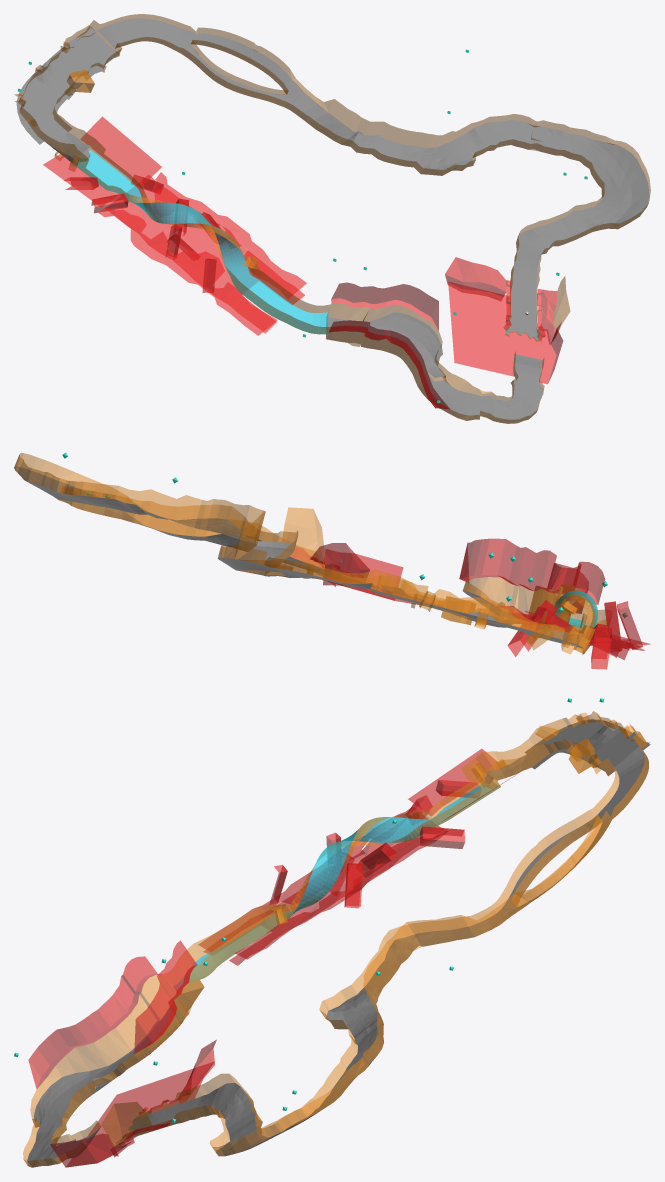
The model's file is Temple (Complete).obj.
3 views of the same model, one above another, from view 1: azimuth 30°, elevation 25°; view 2: azimuth 150°, elevation 25°; view 3: azimuth 270°, elevation 25° (orthographic). The views are drawn at different scales.
Parts seen in each view (by area): view 1: COL_stonetrack, COL_wall, COL_groundreset02, COL_fastdirttrack, COL_reset01, COL_maglev_01, COL_groundreset01, COL_reset_jumpB, COL_reset_jumpA; view 2: COL_wall, COL_stonetrack, COL_groundreset02, COL_reset_jumpB, COL_groundreset01, COL_reset_jumpA, COL_reset01, COL_fastdirttrack, COL_maglev_01, COL_slowdirttrack; view 3: COL_wall, COL_stonetrack, COL_groundreset02, COL_fastdirttrack, COL_maglev_01, COL_reset01, COL_reset_jumpA, COL_reset_jumpB, COL_groundreset01.
Boxes of the visible parts, x1=… form: COL_stonetrack: x1=64, y1=18, x2=649, y2=423; COL_wall: x1=14, y1=14, x2=650, y2=423; COL_groundreset02: x1=43, y1=116, x2=306, y2=335; COL_fastdirttrack: x1=16, y1=33, x2=482, y2=420; COL_reset01: x1=448, y1=282, x2=562, y2=384; COL_maglev_01: x1=75, y1=150, x2=328, y2=334; COL_groundreset01: x1=445, y1=257, x2=557, y2=344; COL_reset_jumpB: x1=331, y1=282, x2=438, y2=330; COL_reset_jumpA: x1=328, y1=320, x2=449, y2=409; COL_wall: x1=14, y1=452, x2=607, y2=654; COL_stonetrack: x1=14, y1=466, x2=515, y2=627; COL_groundreset02: x1=500, y1=600, x2=650, y2=669; COL_reset_jumpB: x1=459, y1=538, x2=556, y2=593; COL_groundreset01: x1=290, y1=543, x2=369, y2=586; COL_reset_jumpA: x1=543, y1=561, x2=605, y2=613; COL_reset01: x1=321, y1=549, x2=442, y2=606; COL_fastdirttrack: x1=369, y1=588, x2=583, y2=648; COL_maglev_01: x1=554, y1=590, x2=597, y2=629; COL_slowdirttrack: x1=179, y1=518, x2=246, y2=537; COL_wall: x1=23, y1=711, x2=648, y2=1167; COL_stonetrack: x1=27, y1=732, x2=649, y2=1167; COL_groundreset02: x1=198, y1=749, x2=516, y2=965; COL_fastdirttrack: x1=34, y1=719, x2=650, y2=1127; COL_maglev_01: x1=174, y1=782, x2=500, y2=986; COL_reset01: x1=50, y1=1061, x2=214, y2=1167; COL_reset_jumpA: x1=28, y1=956, x2=159, y2=1088; COL_reset_jumpB: x1=134, y1=940, x2=197, y2=1053; COL_groundreset01: x1=110, y1=1040, x2=216, y2=1157.
Bounding box in the file's own units: 510 × 250 × 446.
